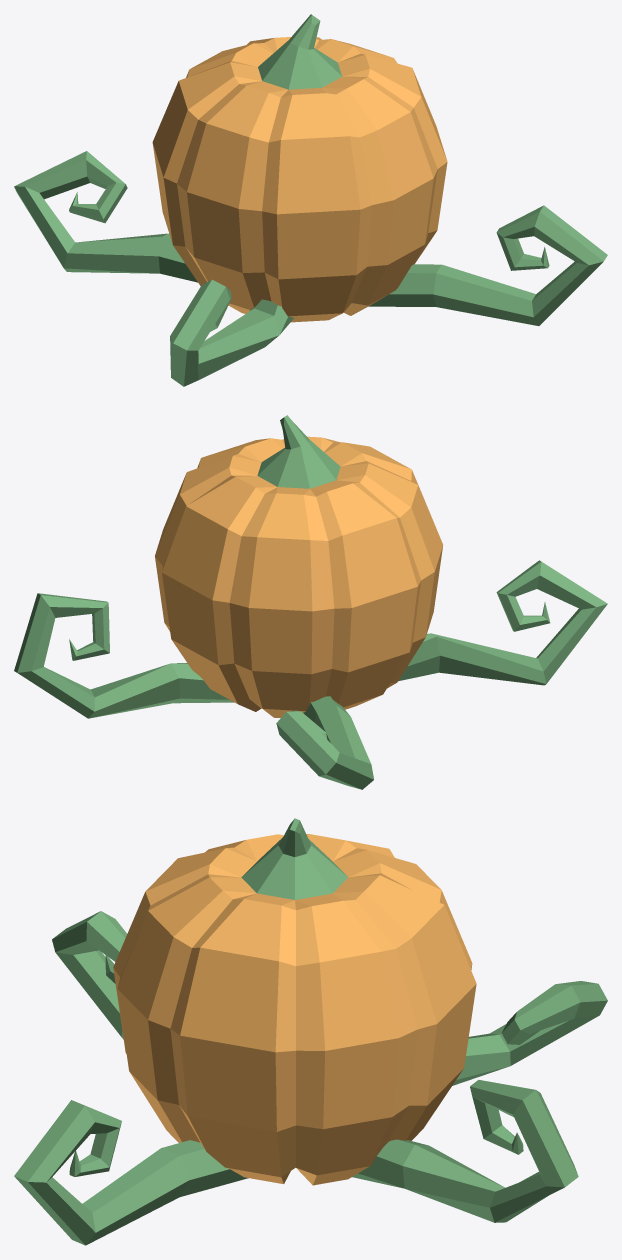
The model's file is pumkin-leaves.glb.
3 views of the same model, one above another, from view 1: azimuth 30°, elevation 25°; view 2: azimuth 150°, elevation 25°; view 3: azimuth 270°, elevation 25° (orthographic). The views are drawn at different scales.
Visible parts, largest first — view 1: pumkin_leaves; view 2: pumkin_leaves; view 3: pumkin_leaves.
Boxes of the visible parts, x1,y1,x2,y2 form: pumkin_leaves: [14, 14, 607, 386]; pumkin_leaves: [14, 415, 607, 789]; pumkin_leaves: [14, 818, 607, 1245].
Size of the model in its own units: 118 by 76.59 by 119.
